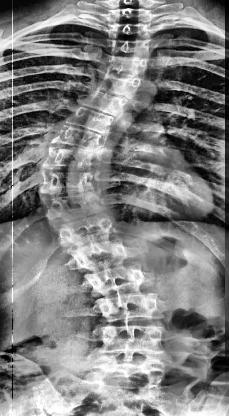Vertebrae: (96, 292, 162, 323), (102, 324, 166, 354), (42, 192, 108, 219), (57, 216, 121, 242), (54, 122, 104, 150), (84, 266, 142, 290), (74, 244, 130, 268), (41, 168, 96, 192), (68, 106, 116, 132), (44, 150, 98, 172), (104, 52, 151, 76), (86, 91, 128, 115), (106, 37, 156, 57), (97, 75, 143, 95), (110, 20, 150, 38)
